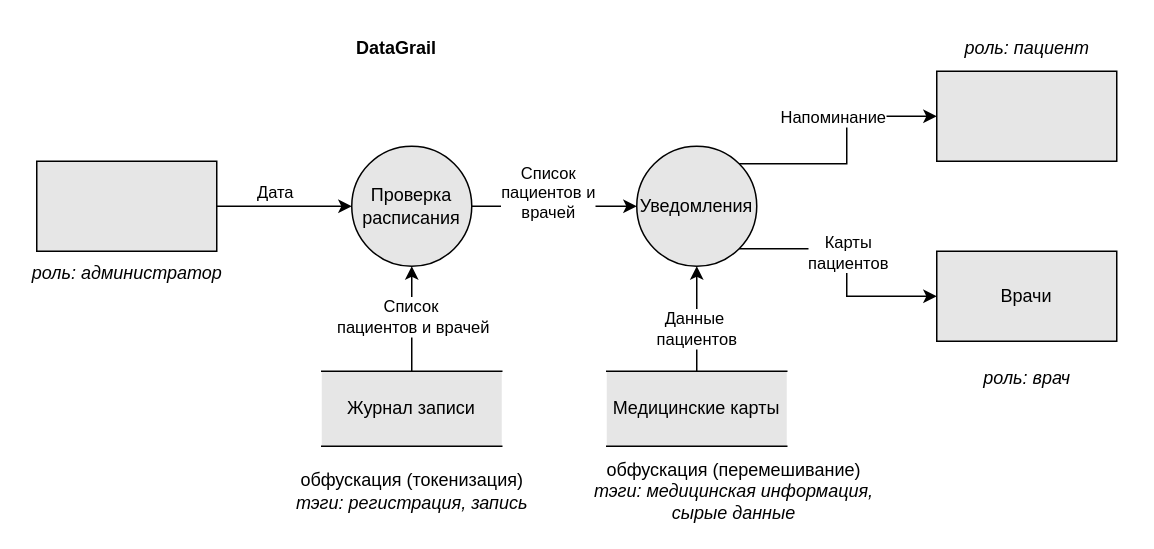
This 1154x549 diagram has some shape labels left out. The centre of each missing label's shape, as x and y in pixels:
Администратор: [126,205]
Пациенты: [1026,115]
